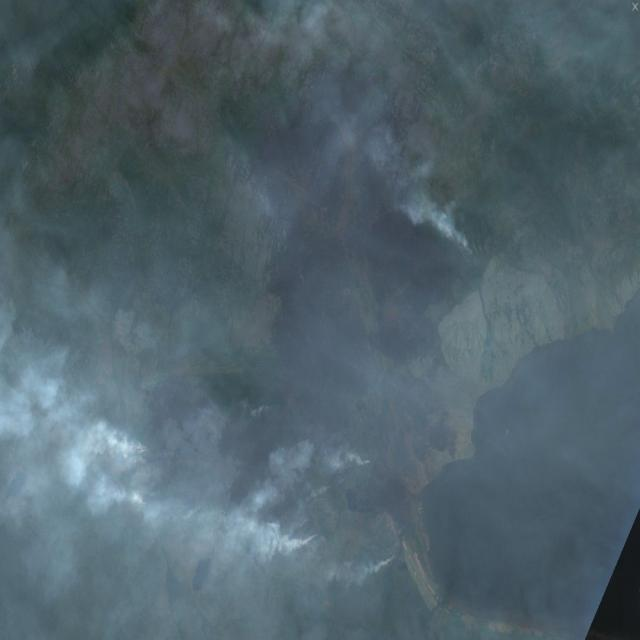fire: (121, 435, 392, 573), (446, 206, 490, 271)
